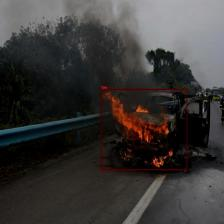fire: (101, 89, 187, 170)
